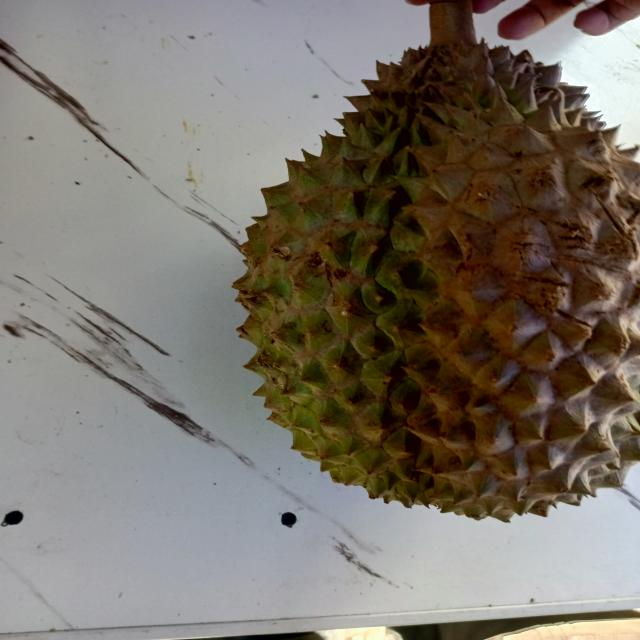mature: (212, 27, 640, 523)
